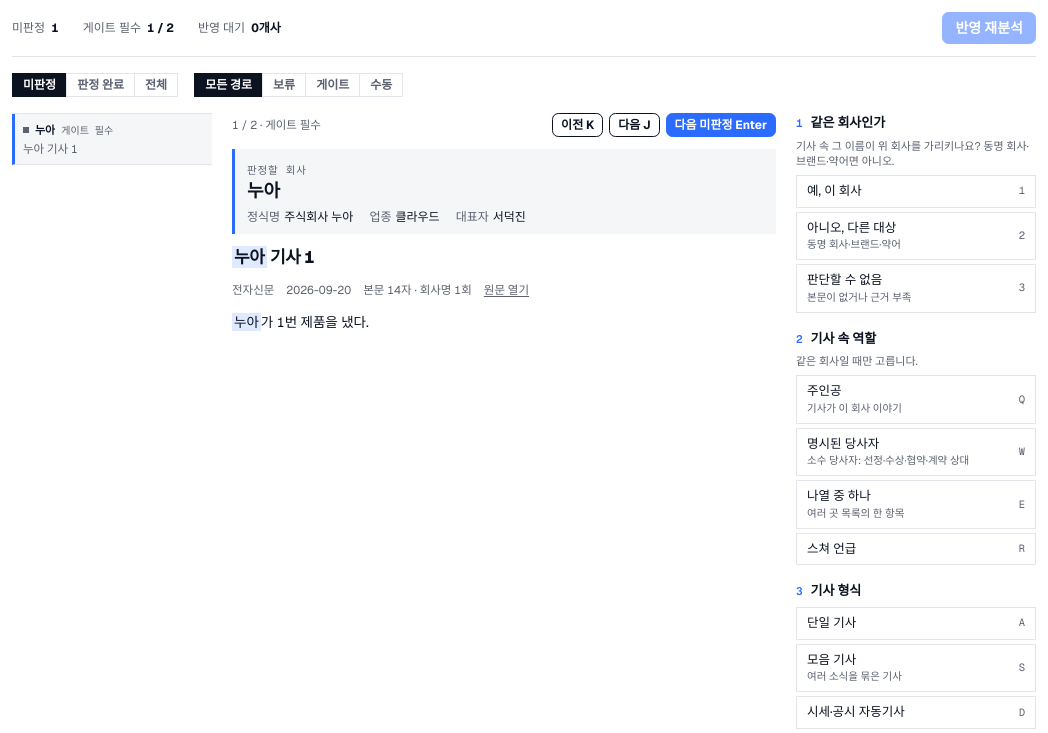
Scenario: JudgmentWorkbench › keeps the gate stratum hidden until the verdict is saved — it comes from the models' answers
Click the button "전체" at (156,85), box [134,73,178,97]
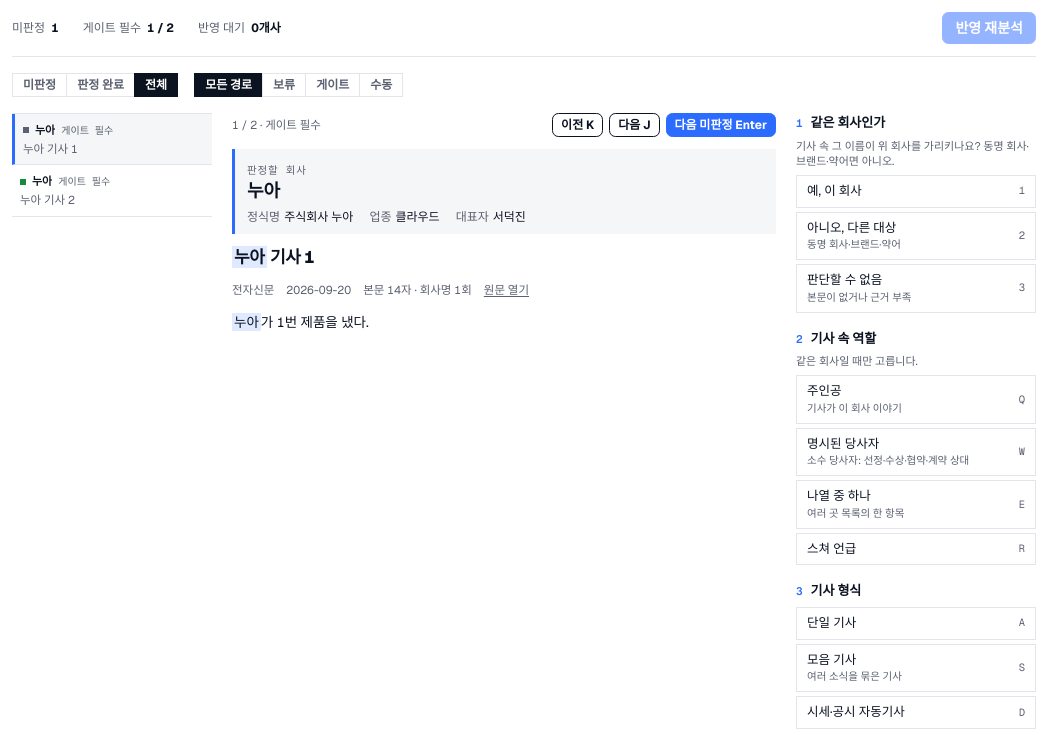
Press j
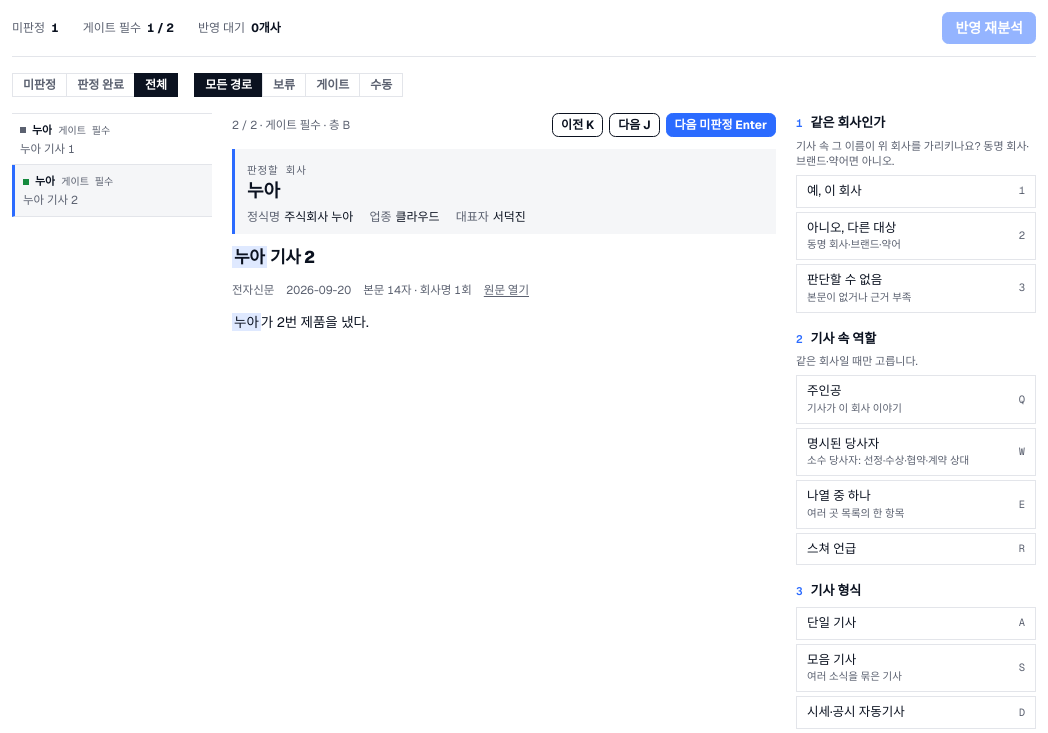
Result: the text "2 / 2 · 게이트 필수 · 층 B" is shown at [232,116,350,134]
